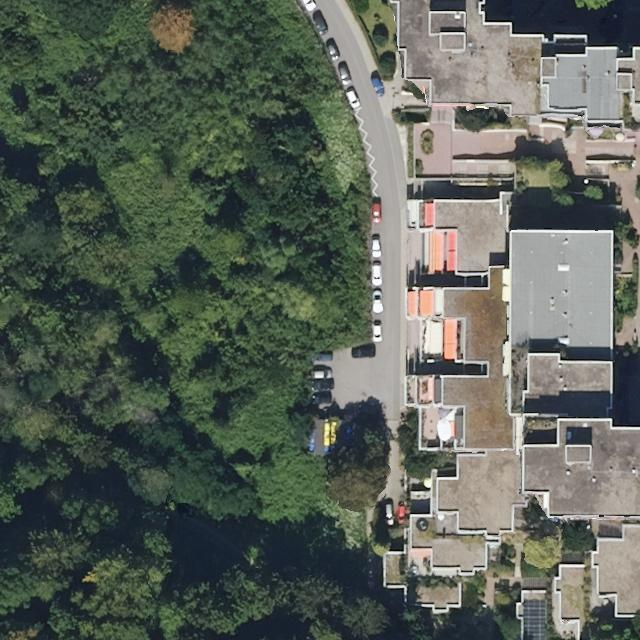PV: (521, 597, 550, 639)
